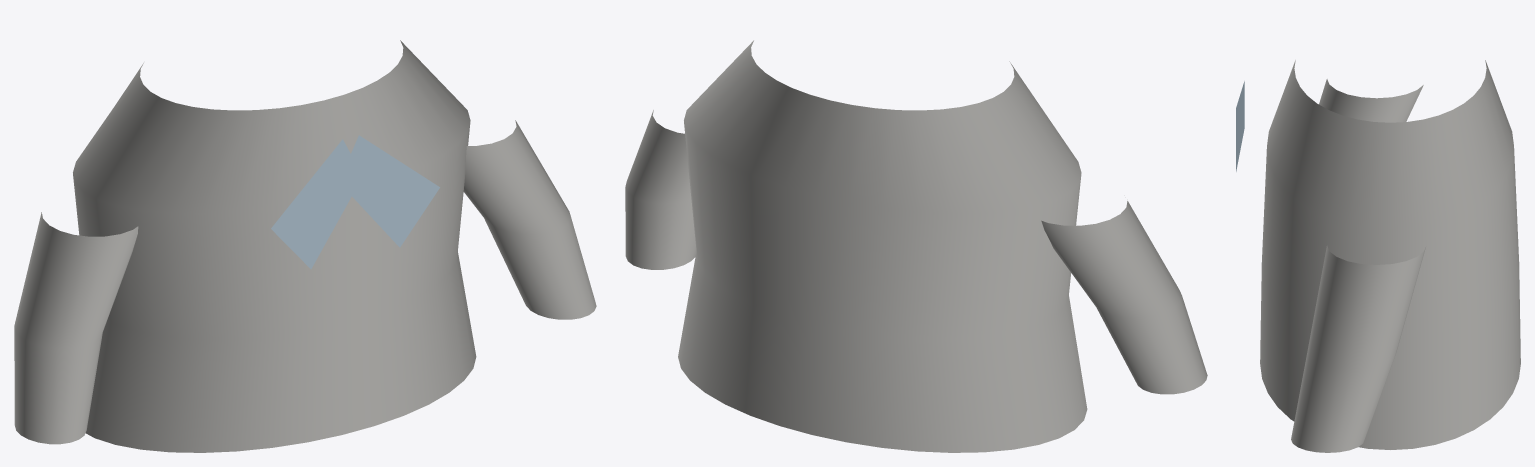
Rendered from theory-silk-blouse.glb.
3 views of the same model, side by side, from view 1: azimuth 30°, elevation 25°; view 2: azimuth 150°, elevation 25°; view 3: azimuth 270°, elevation 25° (orthographic). The views are drawn at different scales.
Visible parts, largest first — view 1: silk_blouse_body, silk_blouse_left_sleeve, silk_blouse_right_sleeve, silk_blouse_bow_right, silk_blouse_bow_left; view 2: silk_blouse_body, silk_blouse_left_sleeve, silk_blouse_right_sleeve; view 3: silk_blouse_body, silk_blouse_right_sleeve, silk_blouse_left_sleeve, silk_blouse_bow_left.
Part boxes in pixels (x1,y1,x2,y2): silk_blouse_body: (73, 40, 476, 452); silk_blouse_left_sleeve: (14, 212, 138, 444); silk_blouse_right_sleeve: (463, 120, 596, 319); silk_blouse_bow_right: (351, 135, 439, 247); silk_blouse_bow_left: (271, 139, 351, 269); silk_blouse_body: (678, 40, 1087, 452); silk_blouse_left_sleeve: (1041, 201, 1207, 394); silk_blouse_right_sleeve: (625, 110, 696, 269); silk_blouse_body: (1260, 60, 1520, 449); silk_blouse_right_sleeve: (1291, 245, 1425, 452); silk_blouse_left_sleeve: (1319, 79, 1423, 122); silk_blouse_bow_left: (1236, 81, 1244, 171).
Bounding box in the file's own units: 0.706 × 0.38 × 0.332.
